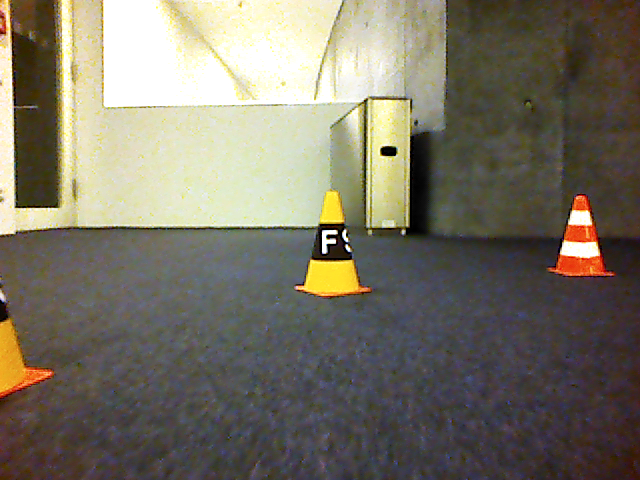orangeconesmall: (548, 193, 617, 280)
yellowcone: (292, 191, 376, 299)
